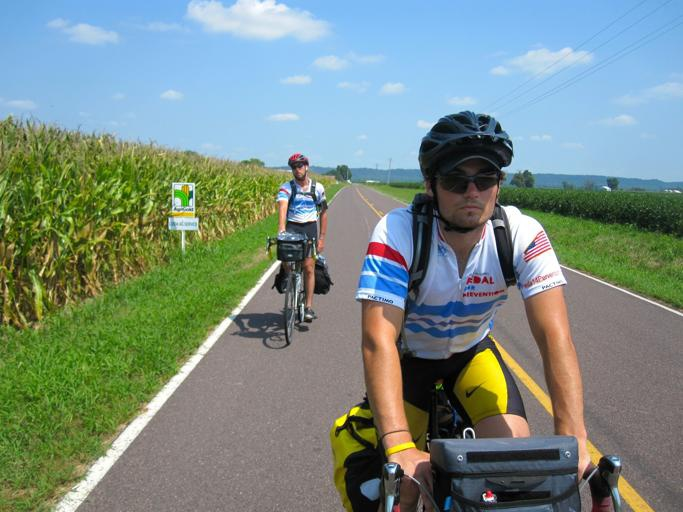non-vehicle: (372, 383, 623, 511), (264, 232, 317, 345)
